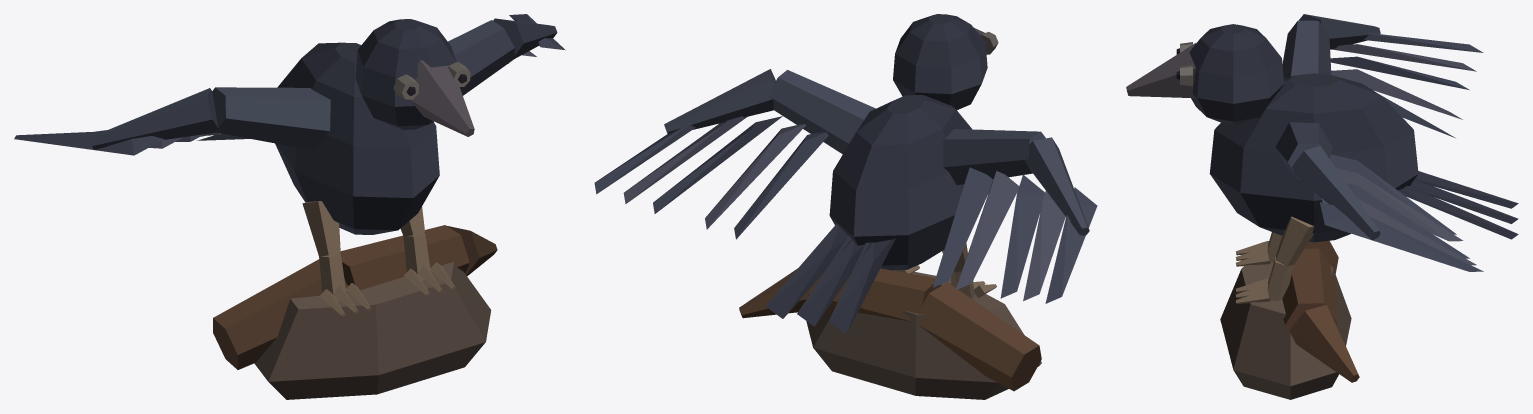
The model's file is marsh-raven-healthy.glb.
The picture shows the model from 3 angles, left to right: view 1: azimuth 30°, elevation 25°; view 2: azimuth 150°, elevation 25°; view 3: azimuth 270°, elevation 25°; orthographic projection. The views are drawn at different scales.
Parts seen in each view (by area): view 1: Marsh raven · healthy; view 2: Marsh raven · healthy; view 3: Marsh raven · healthy.
Boxes of the visible parts, x1=… form: Marsh raven · healthy: x1=14, y1=14, x2=565, y2=399; Marsh raven · healthy: x1=594, y1=14, x2=1097, y2=399; Marsh raven · healthy: x1=1126, y1=14, x2=1518, y2=399.
Size of the model in its own units: 0.96 by 0.6482 by 0.7003.
